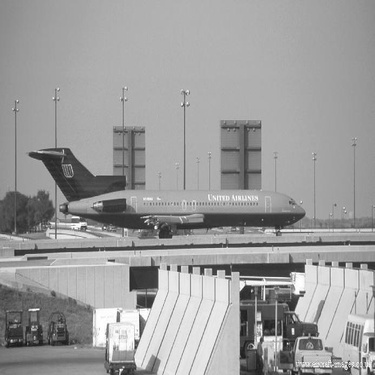airplane: (19, 129, 316, 244)
